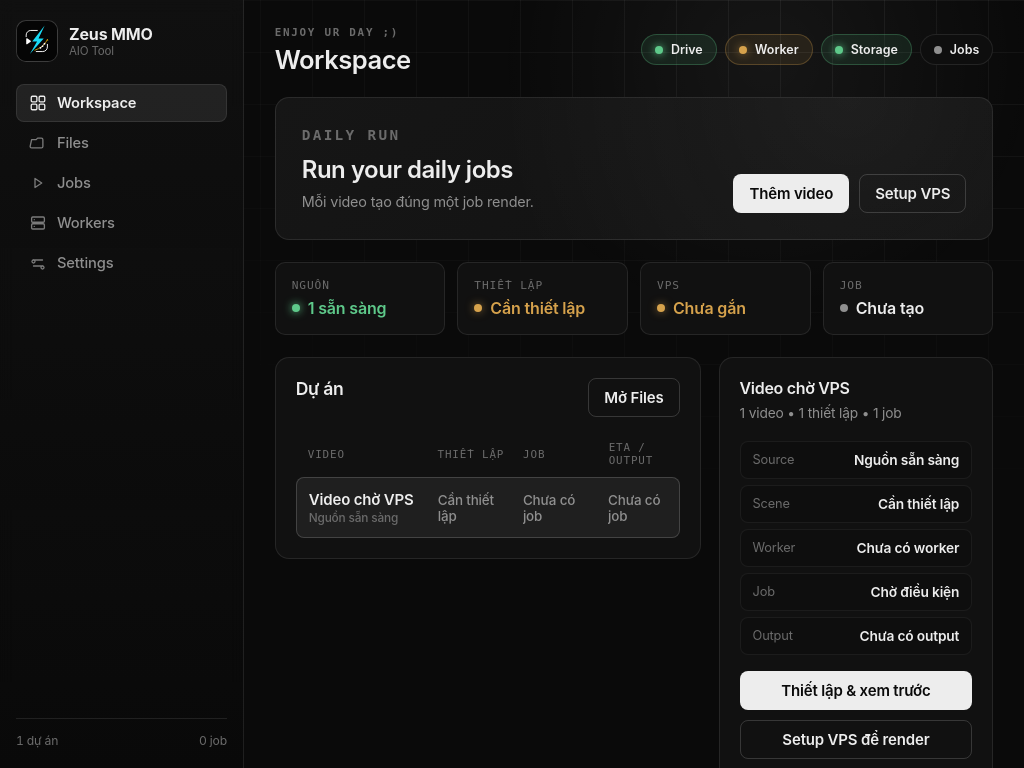
Test: DashboardShell › keeps worker setup reachable when a source-ready video has no ready worker
Check: the button "Thiết lập & xem trước" is enabled, box [740, 670, 972, 710]
What coordinates should you click on to do the following:
click the button "Setup VPS để render"
I would click on:
 (856, 739)
Its box is [740, 720, 972, 758].
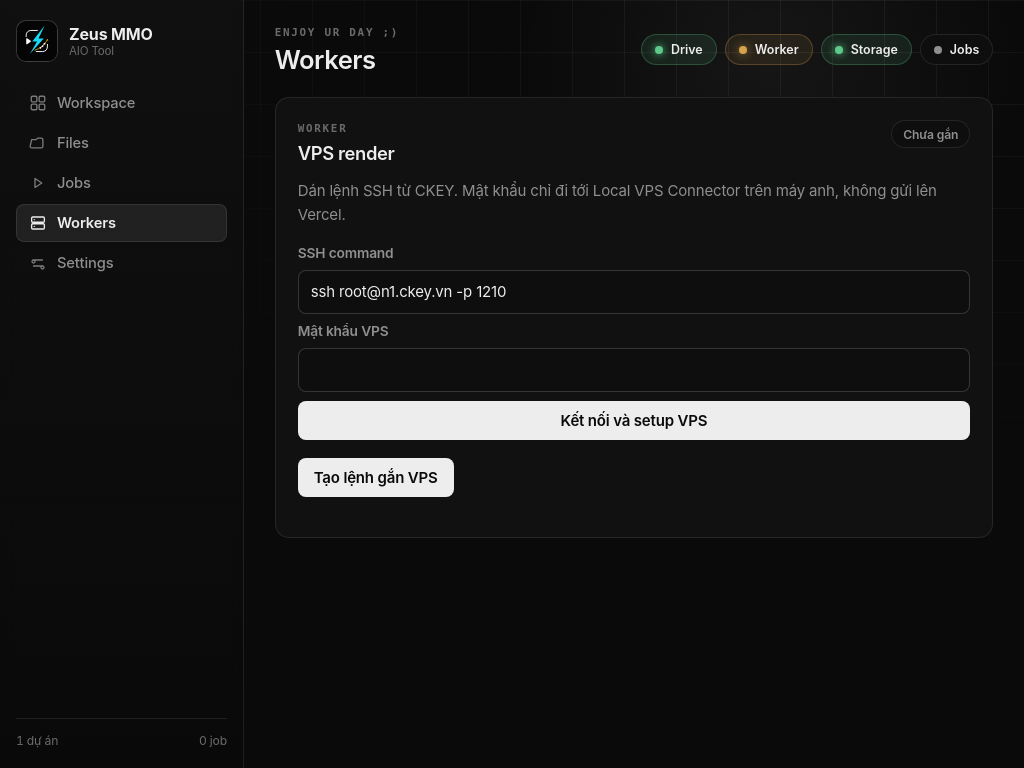
Check: the heading "Workers" is shown, box [275, 44, 375, 75]
Check: the element named "Gắn VPS" is shown, box [275, 97, 993, 538]
